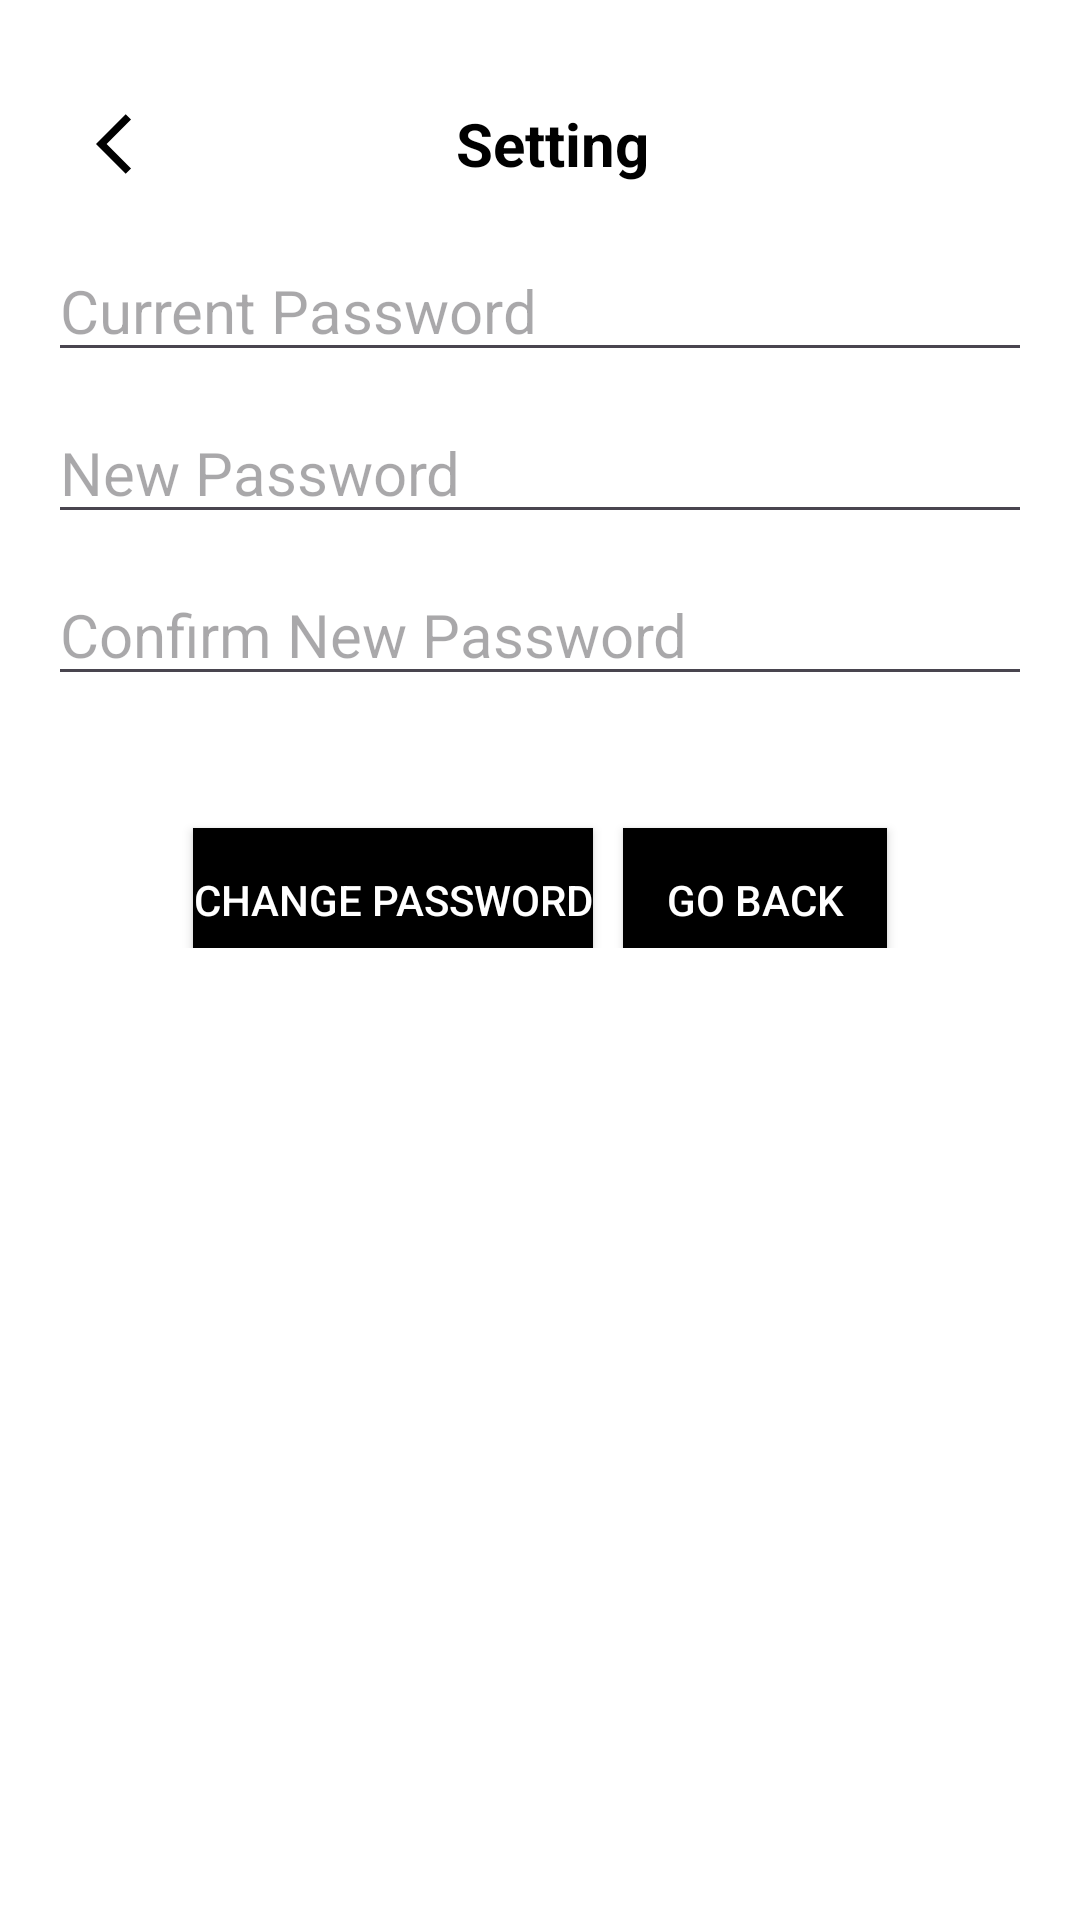

Screen size 1080*1920. Icon name, then its center in pixels as point (x, y):
arrow back: point (113, 144)
